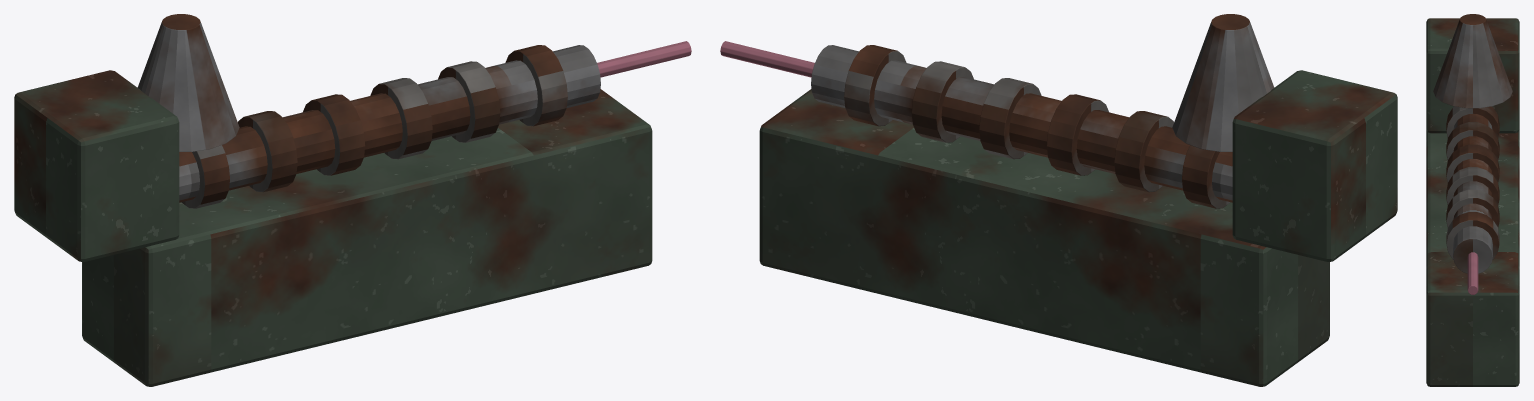
The model's file is HM03_plastic_extruder.glb.
The picture shows the model from 3 angles, left to right: view 1: azimuth 30°, elevation 25°; view 2: azimuth 150°, elevation 25°; view 3: azimuth 270°, elevation 25°; orthographic projection. The views are drawn at different scales.
Parts seen in each view (by area): view 1: HM03_plastic_extruder; view 2: HM03_plastic_extruder; view 3: HM03_plastic_extruder.
Part boxes in pixels (x1,y1,x2,y2): HM03_plastic_extruder: (14,14,691,386); HM03_plastic_extruder: (720,14,1397,386); HM03_plastic_extruder: (1426,14,1519,386).
Bounding box in the file's own units: 3 × 1.46 × 0.5526.
4 materials, 4 textured.
